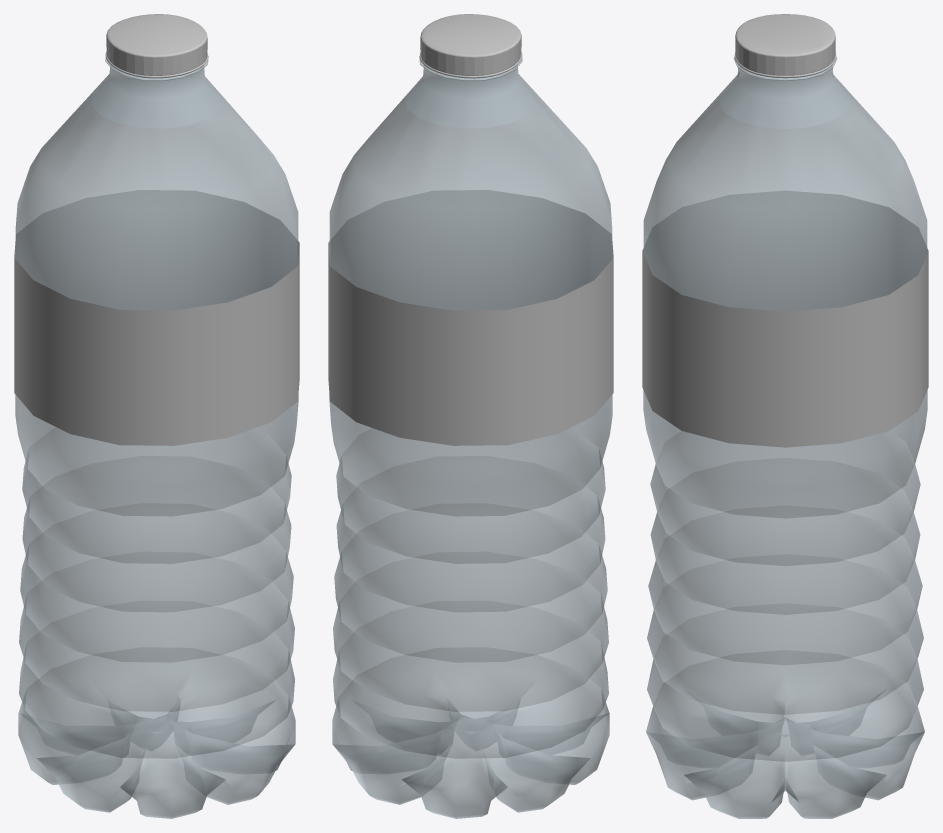
File: water3.fbx
3 renders of one model, left to right at view 1: azimuth 30°, elevation 25°; view 2: azimuth 150°, elevation 25°; view 3: azimuth 270°, elevation 25°, orthographic.
Visible parts, largest first — view 1: kirkwater; view 2: kirkwater; view 3: kirkwater.
Boxes of the visible parts, bbox=[...] form: kirkwater: bbox=[14, 14, 299, 818]; kirkwater: bbox=[328, 14, 613, 818]; kirkwater: bbox=[642, 14, 928, 818].
Size of the model in its own units: 199 by 567 by 199.
